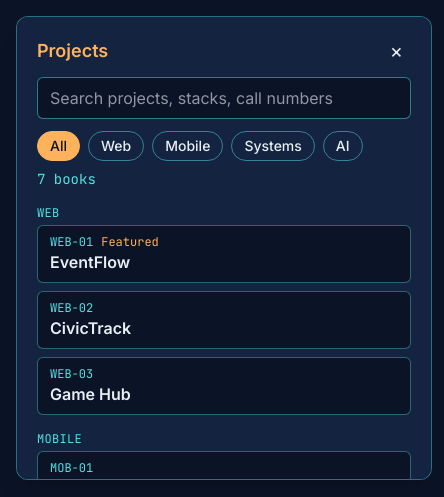
it: LibraryPanel › narrows the shelf as the visitor types and says how many books match
Type "react native" into the search field named "Search the catalog" at (224, 98), box [37,77,411,119]
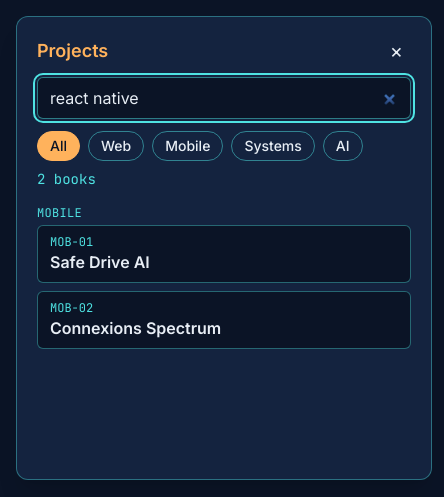
Expected: the button "MOB-01 Safe Drive AI" is shown, [37,225,411,283]
Result: the message reads "2 books" at [37,170,96,188]
Replace the text in the search field with "zzzz" at (224, 98), box [37,77,411,119]
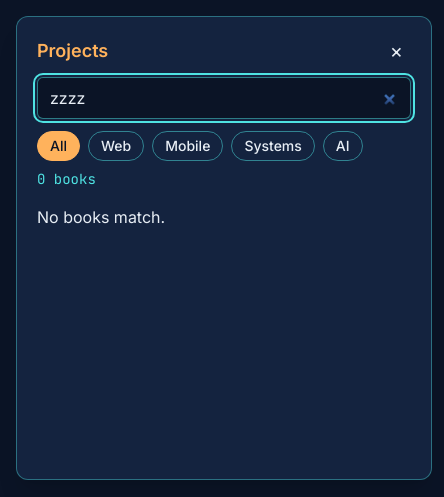
Result: the text "No books match." is shown at [37,207,165,227]
Result: the message reads "0 books" at [37,170,96,188]
